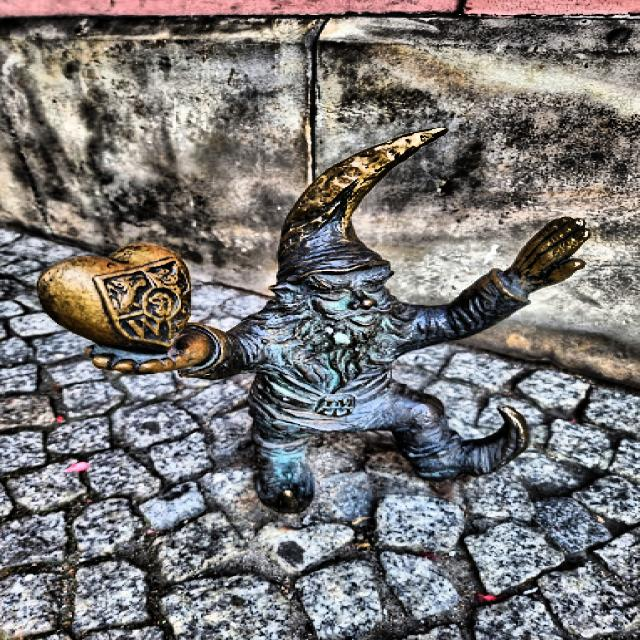WrocLovek: (30, 126, 595, 508)
